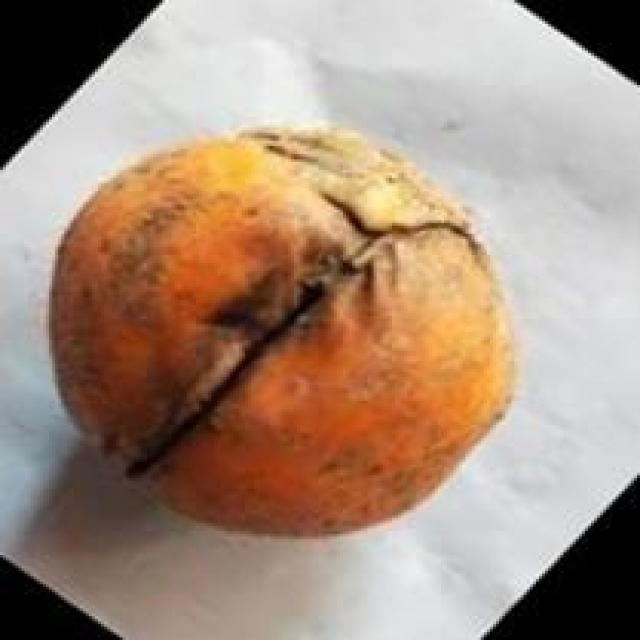damaged: (49, 127, 511, 534)
